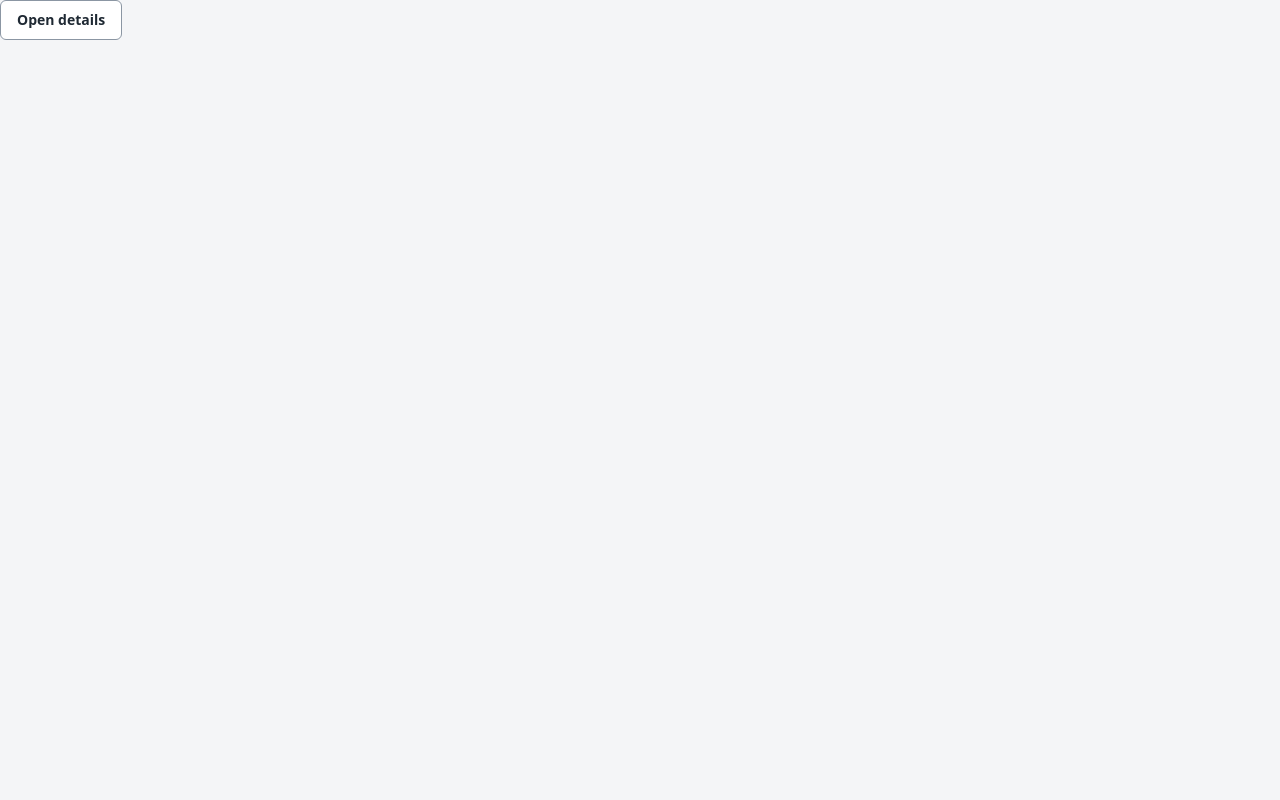
Test: dialog › is a named modal that traps Tab, closes on Escape and restores focus
Click the button "Open details". click: click(61, 20)
box: [0,0,122,40]
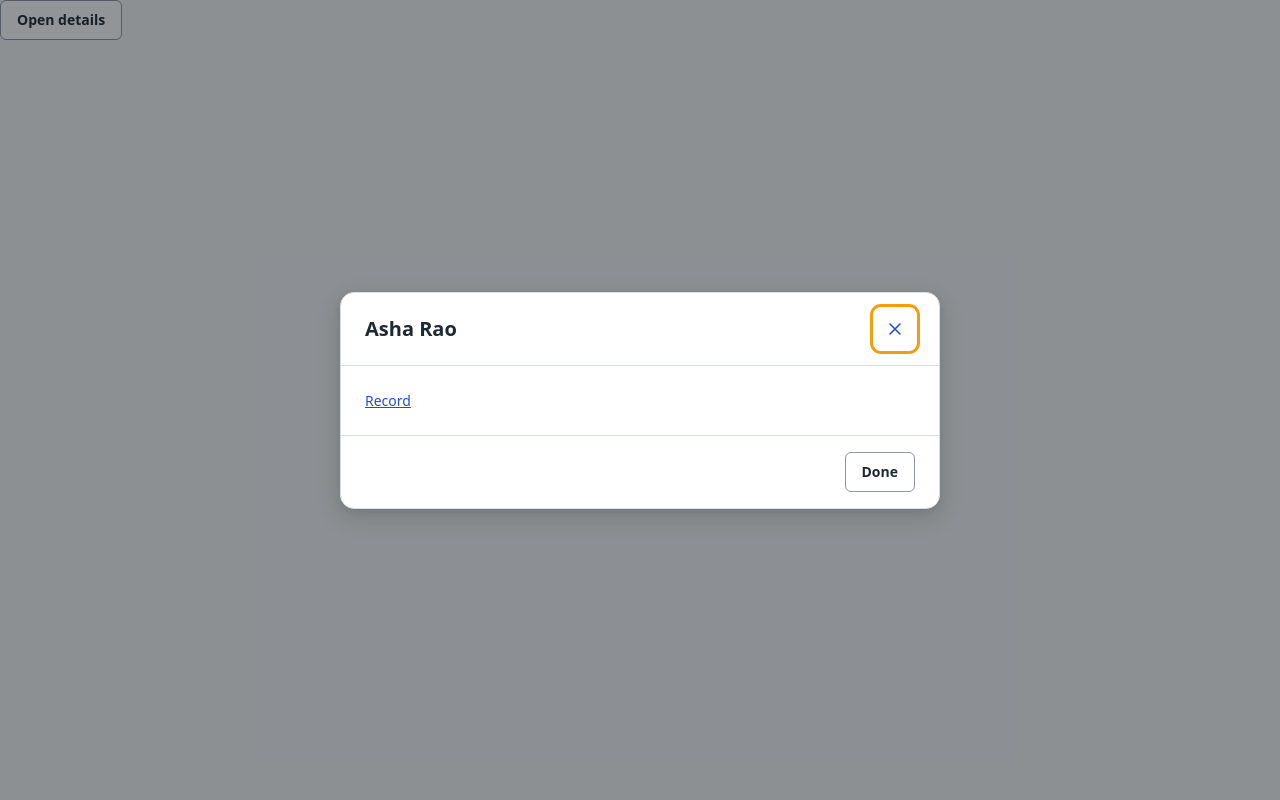
Press Tab
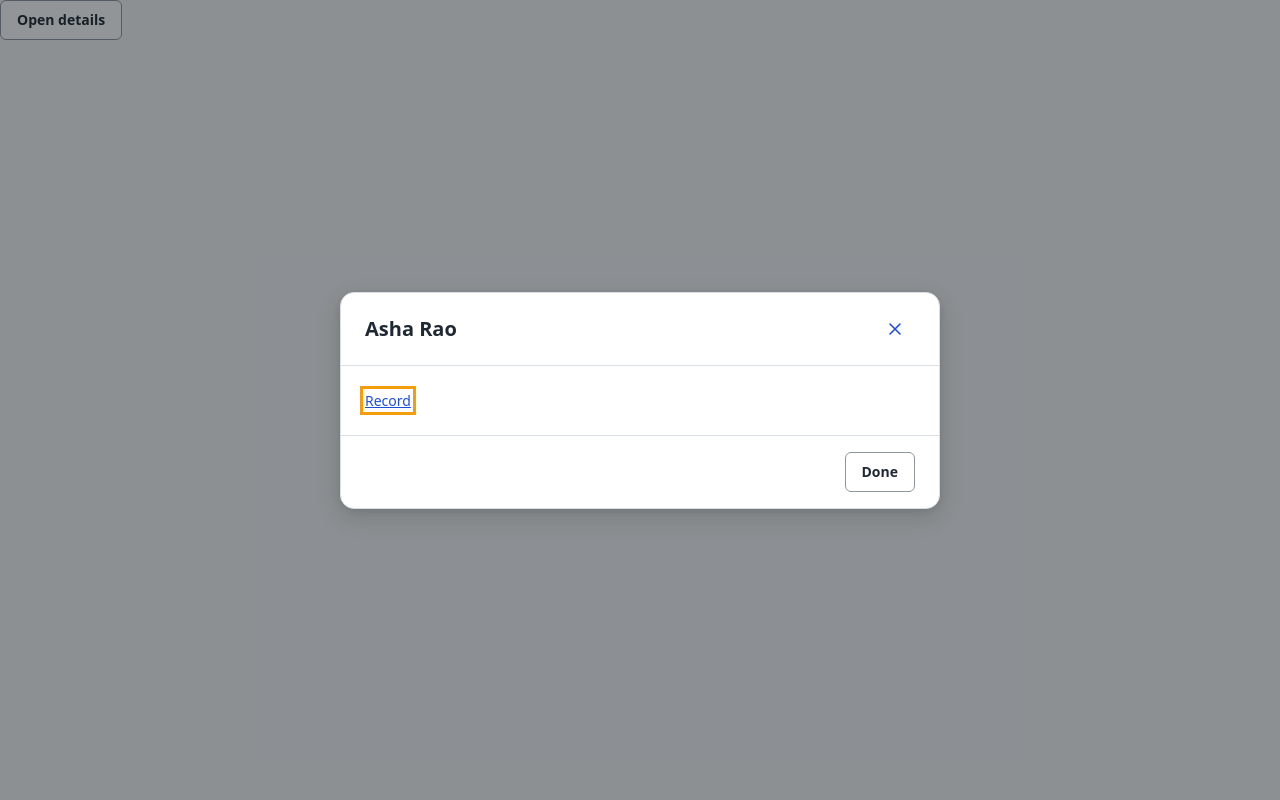
Press Tab
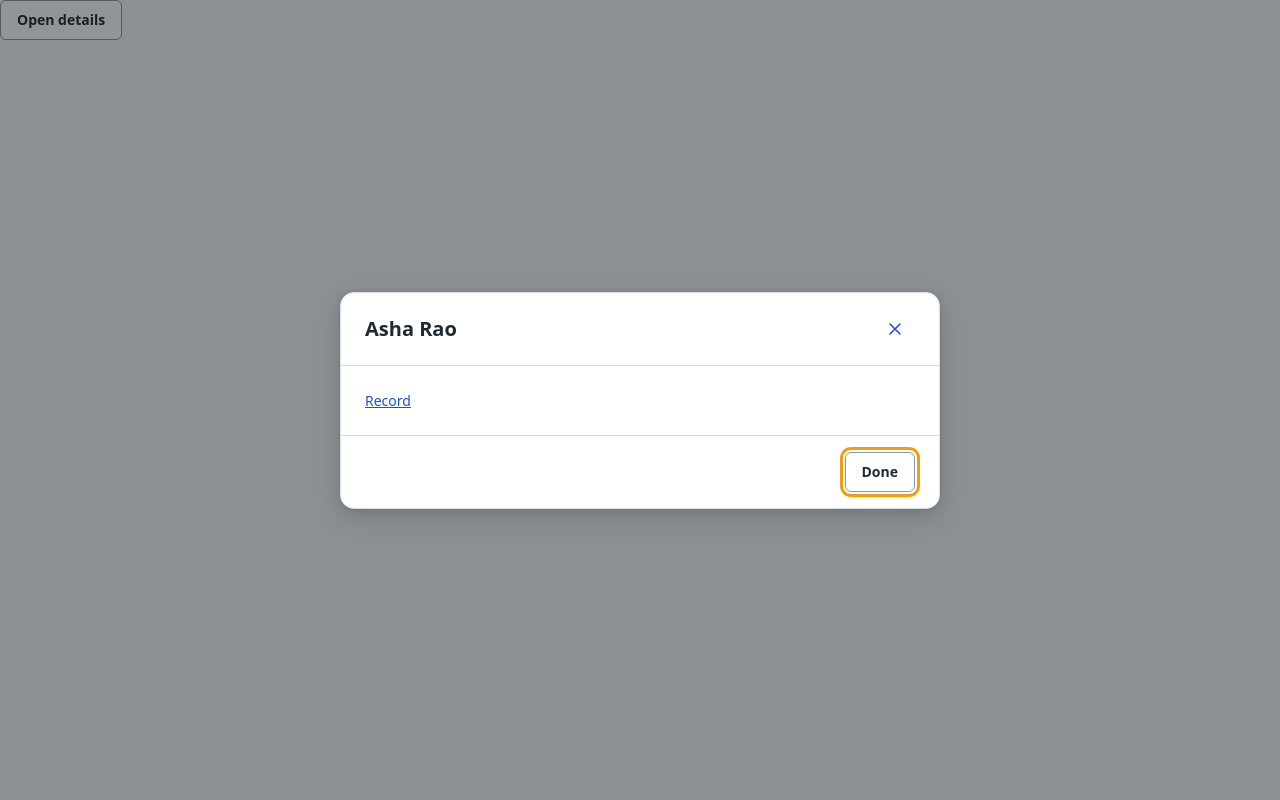
Press Tab
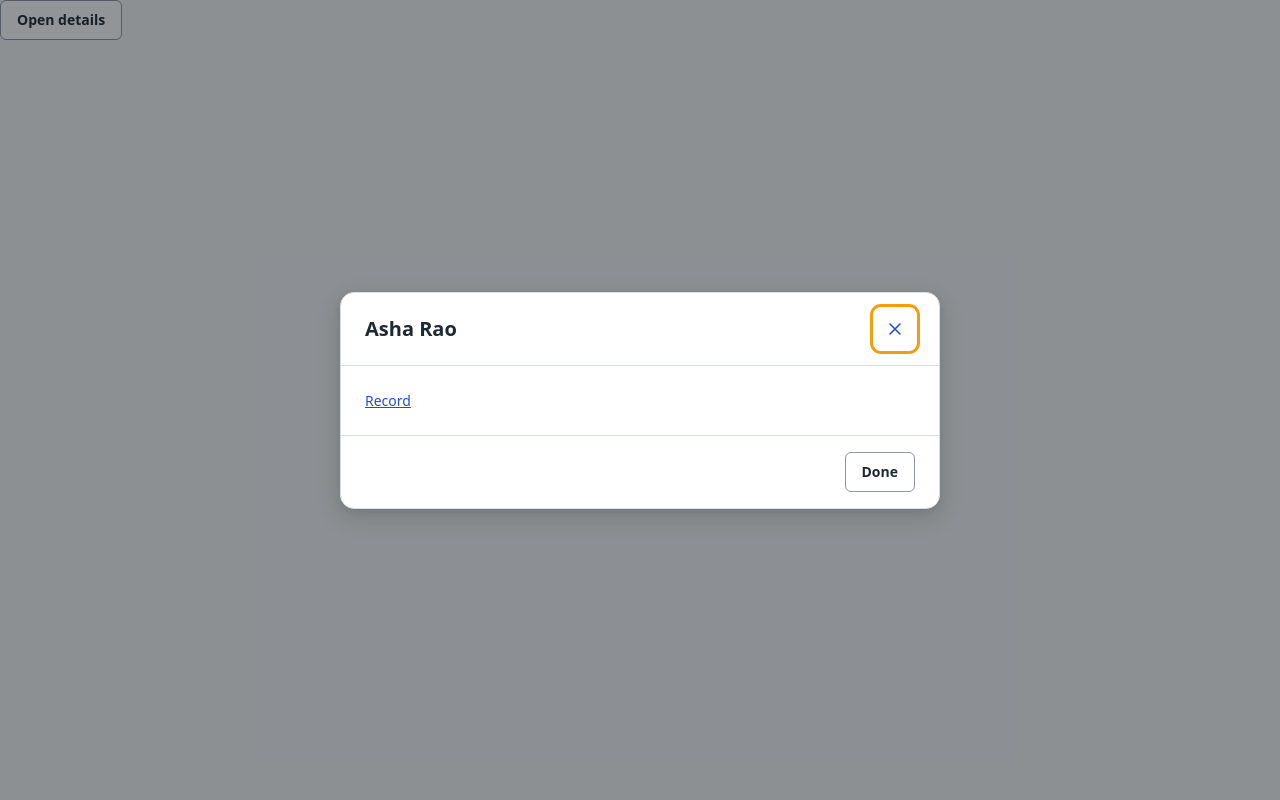
Press Shift+Tab
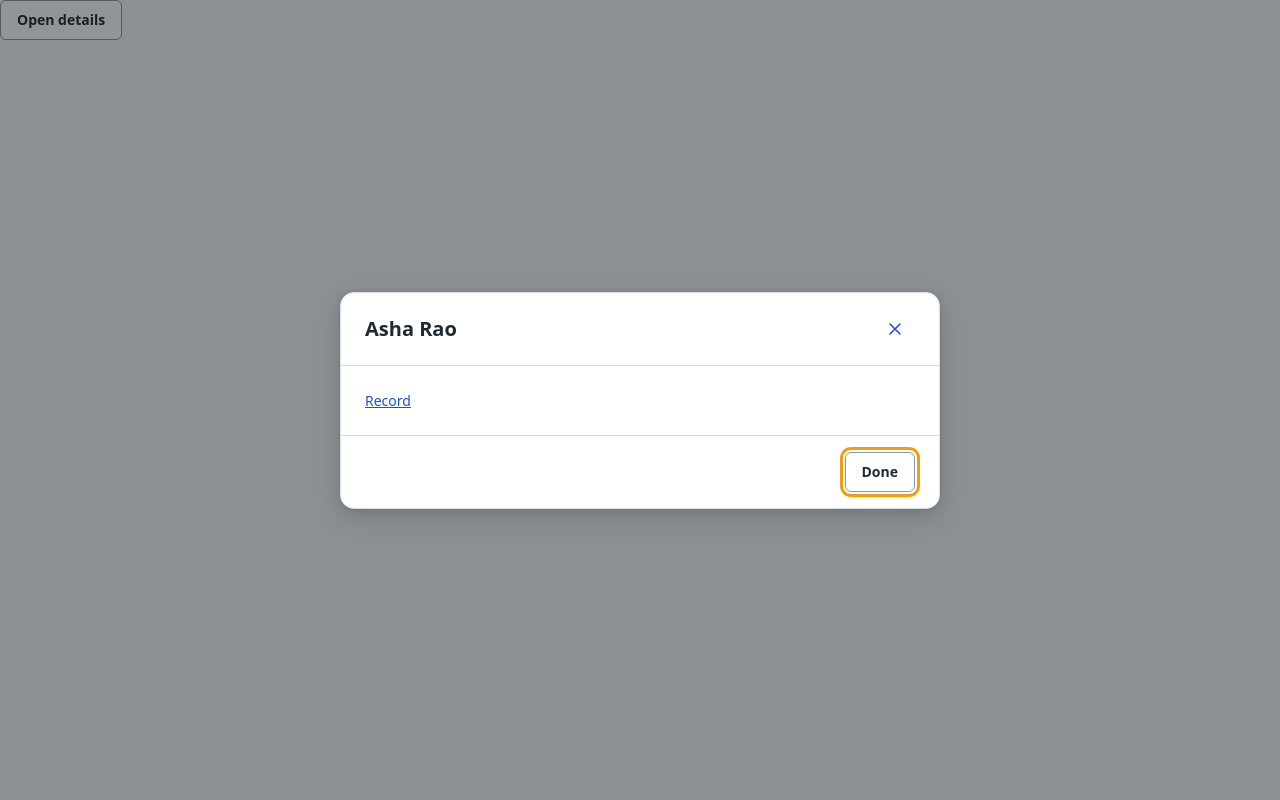
Press Escape
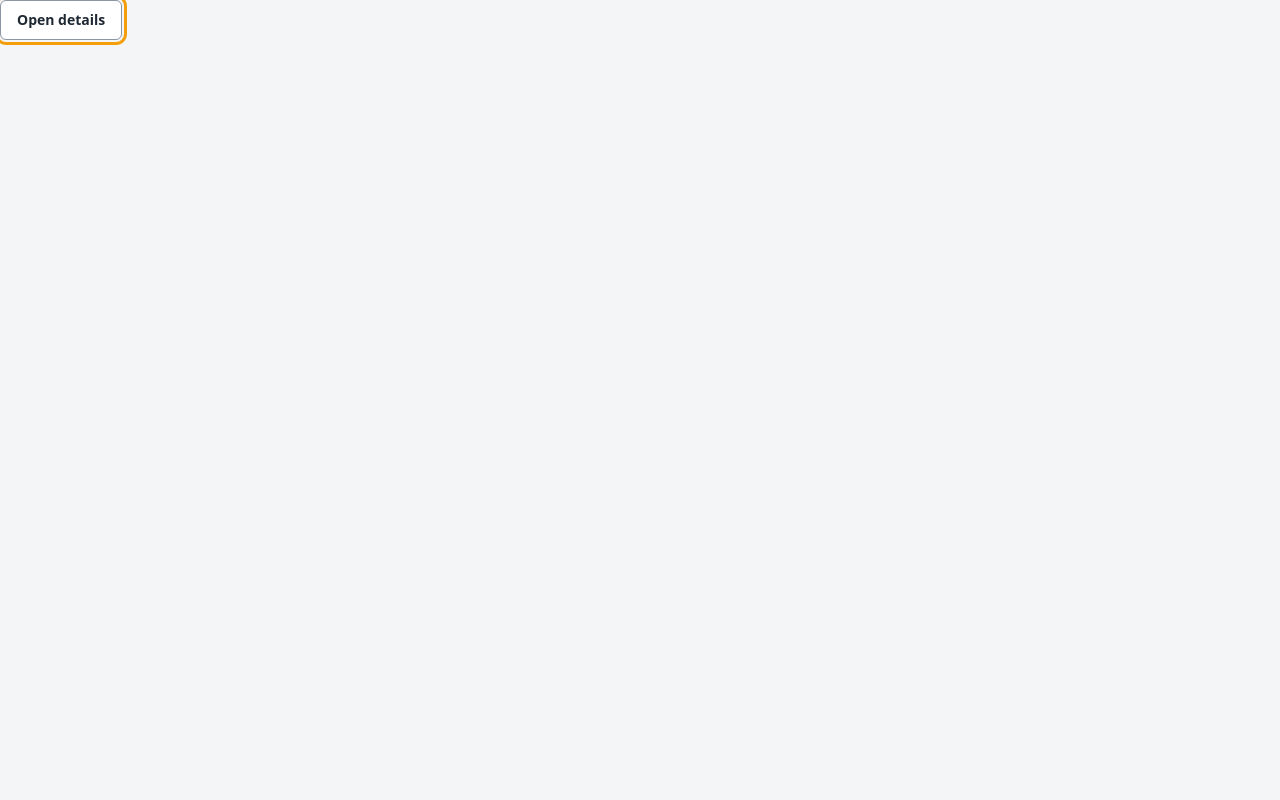
Now the dialog is gone
